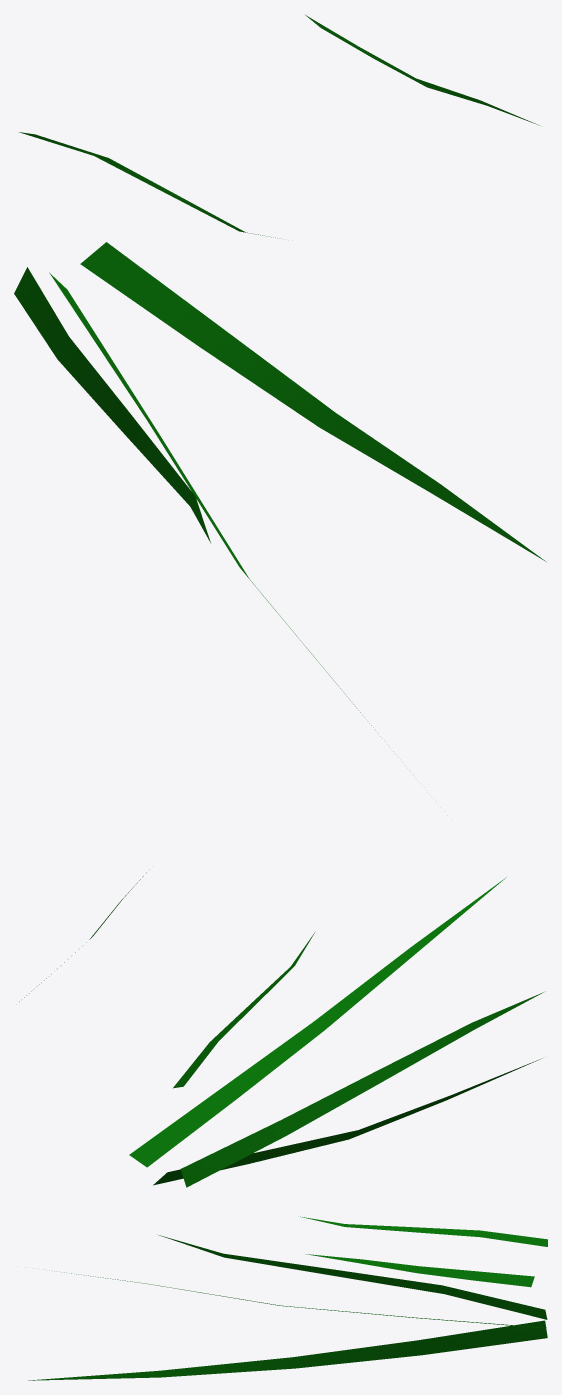
File: grass4.glb
The picture shows the model from 3 angles, top to bottom: view 1: azimuth 30°, elevation 25°; view 2: azimuth 150°, elevation 25°; view 3: azimuth 270°, elevation 25°; orthographic projection. The views are drawn at different scales.
Parts seen in each view (by area): view 1: Object_4; view 2: Object_4; view 3: Object_4.
Boxes of the visible parts, bbox=[...] form: Object_4: bbox=[14, 15, 545, 770]; Object_4: bbox=[19, 869, 543, 1187]; Object_4: bbox=[28, 1216, 547, 1380].
Bounding box in the file's own units: 0.0842 × 0.0708 × 0.1597.
